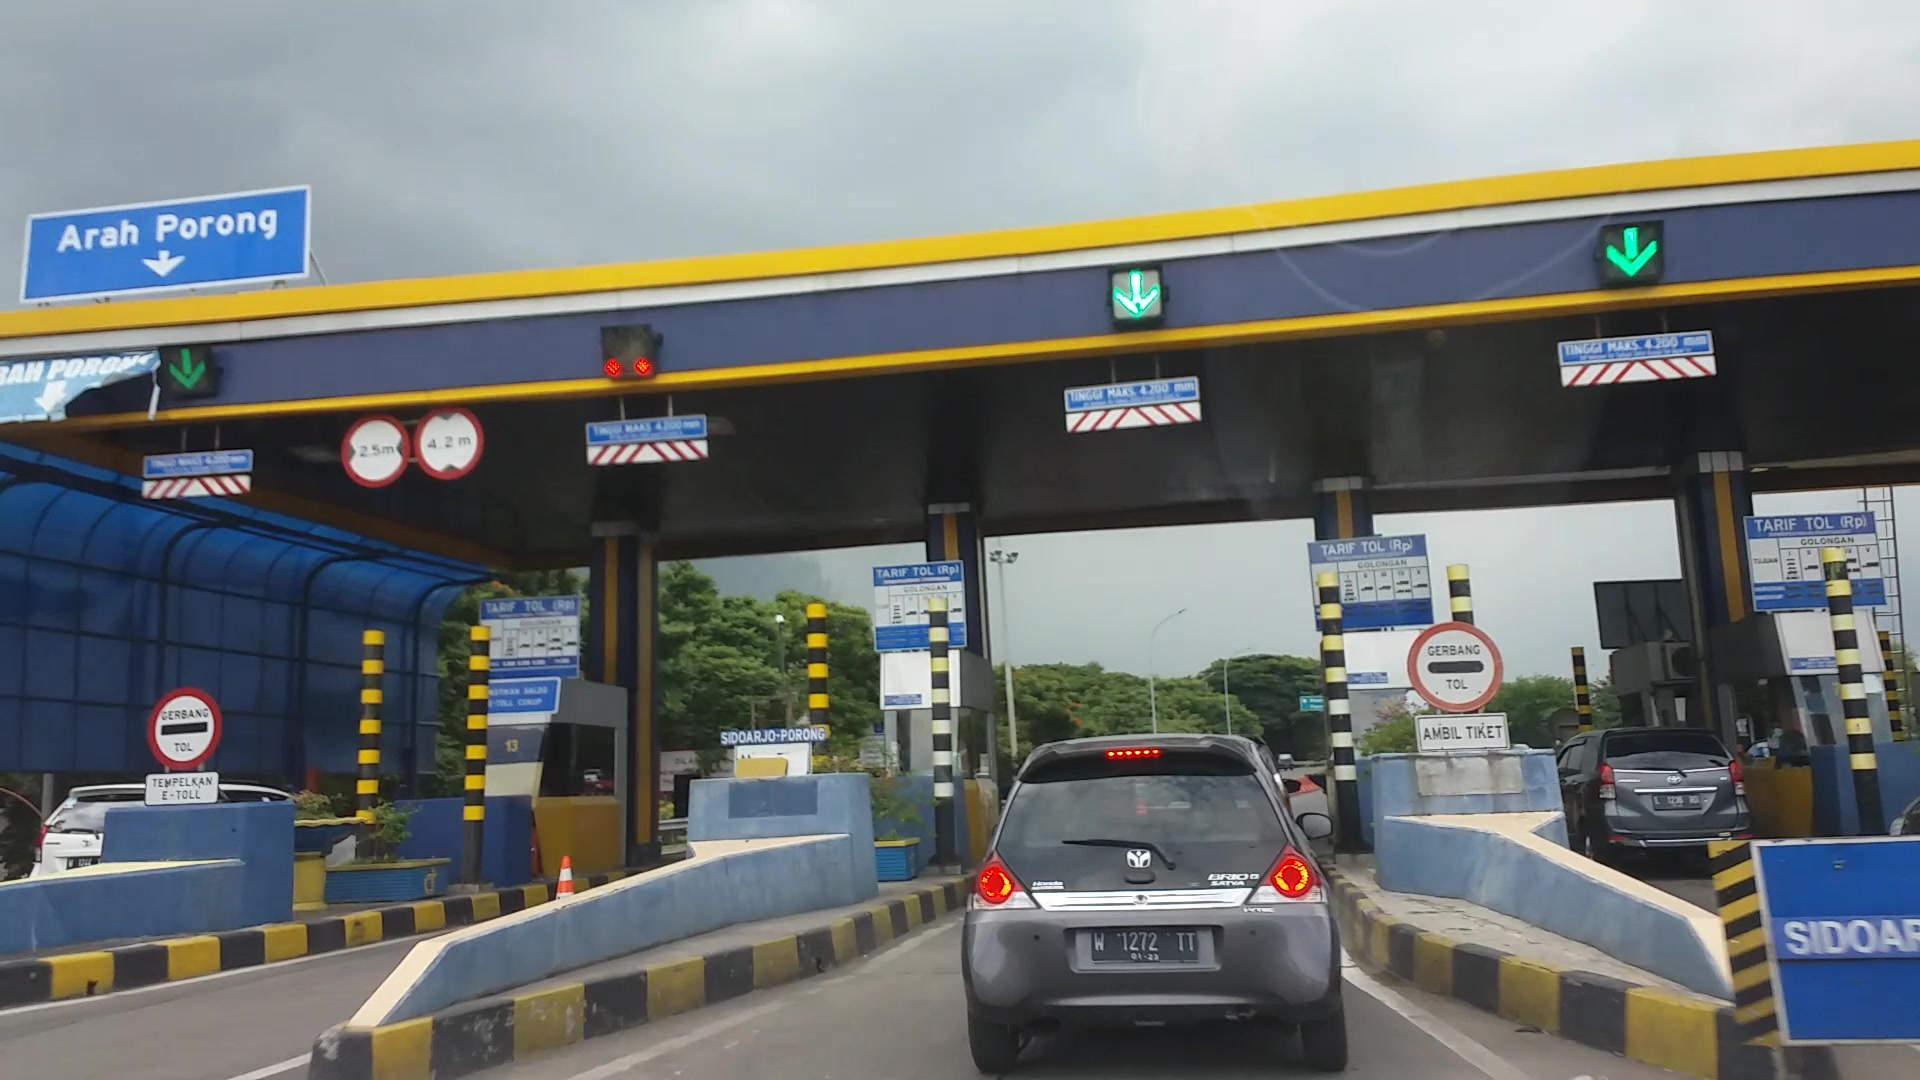plate_positive: (1092, 927, 1197, 963)
